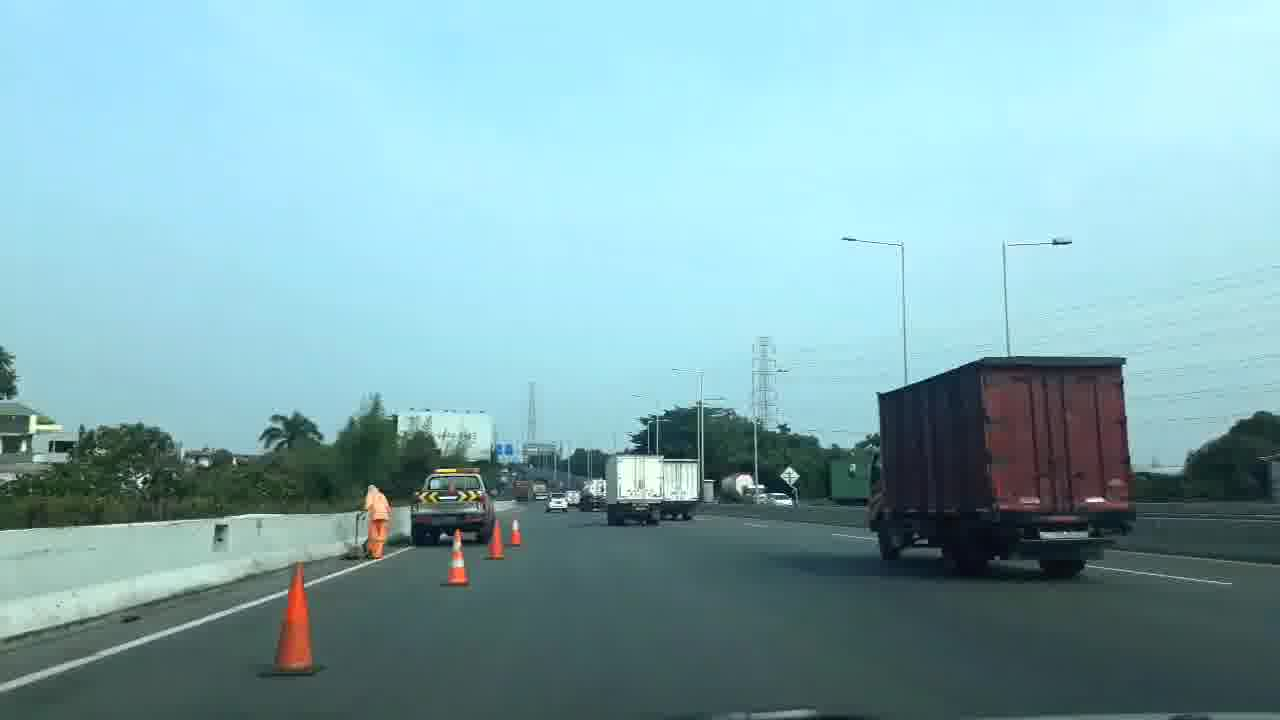plate_positive: (1038, 524, 1089, 540)
